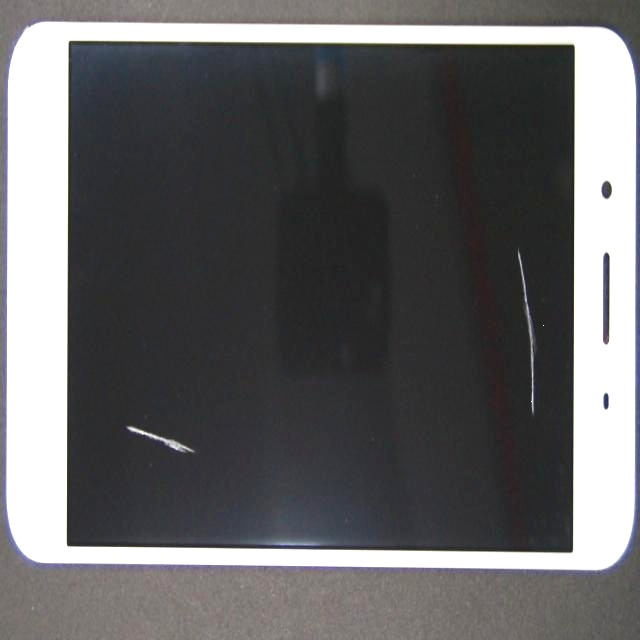scratch: (278, 131, 640, 366), (83, 235, 250, 640)
